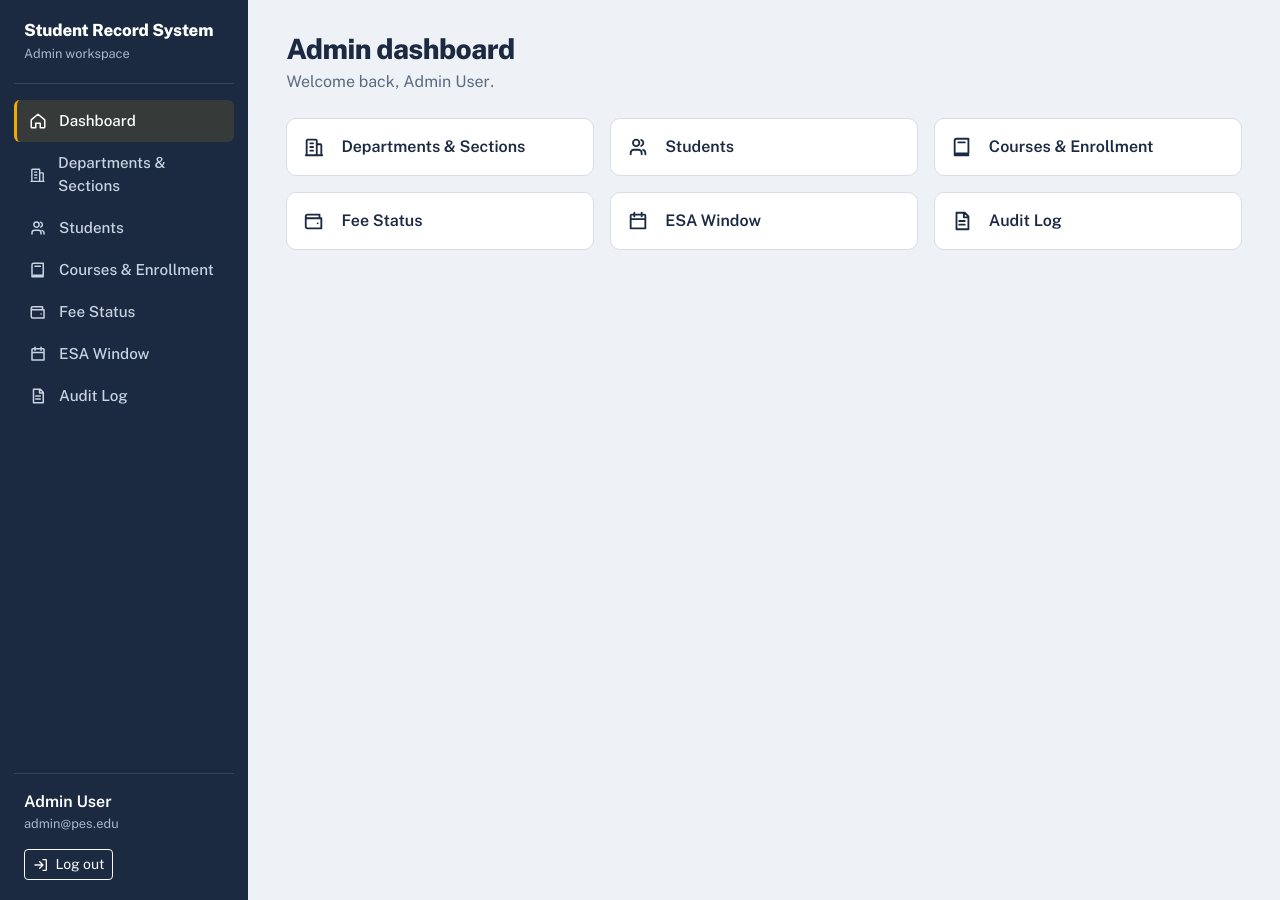
Test: App routing and login (TC-AUTH-01/02/04) › logs out and returns to the login page
The width and height of the screenshot is (1280, 900).
Step 1. Click the button "Log out" → (69, 864), box [24,849,114,880]
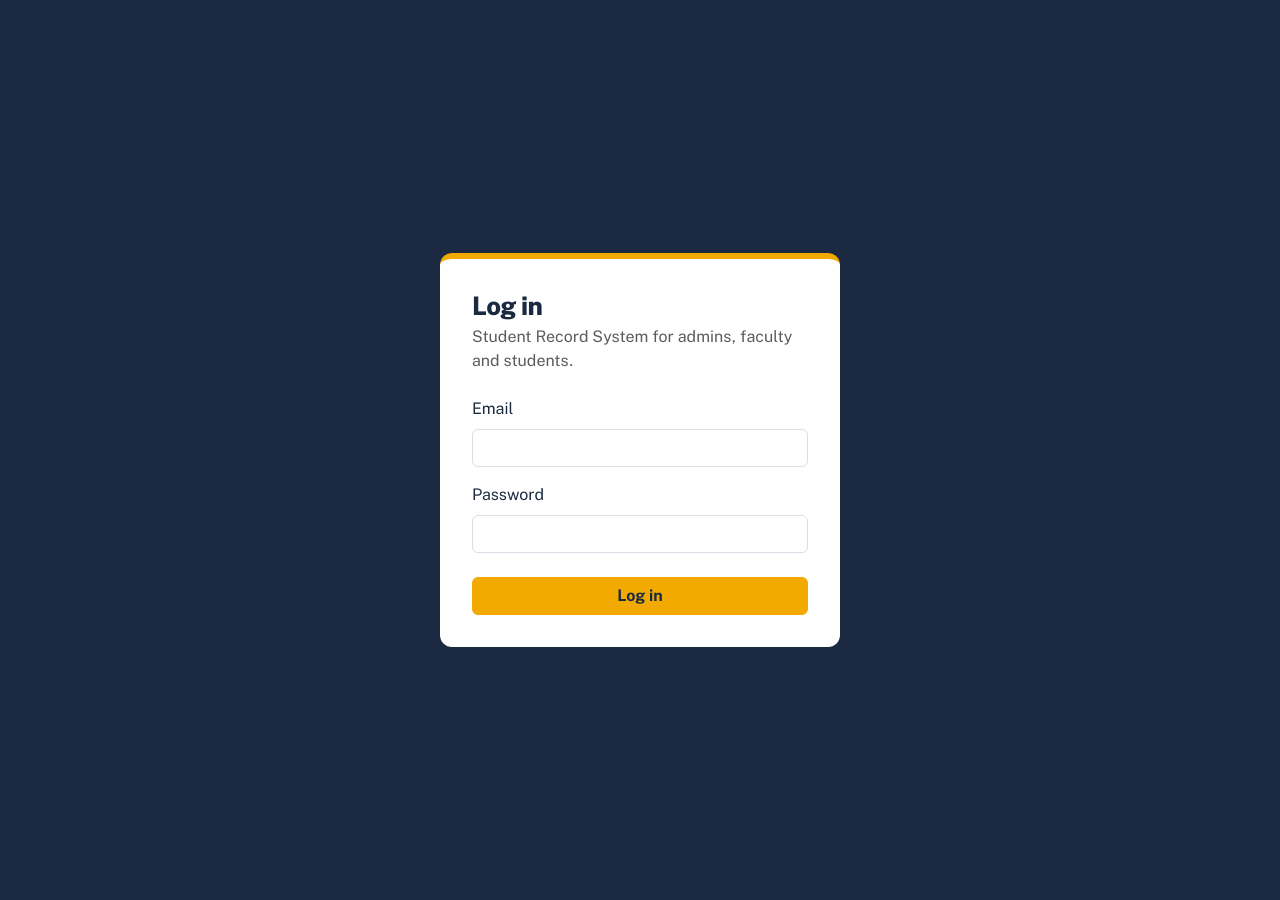
Check: the heading "Log in" is shown, box [472,291,542,321]
